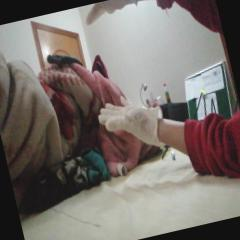gloved: (97, 92, 165, 146), (82, 0, 141, 27)
